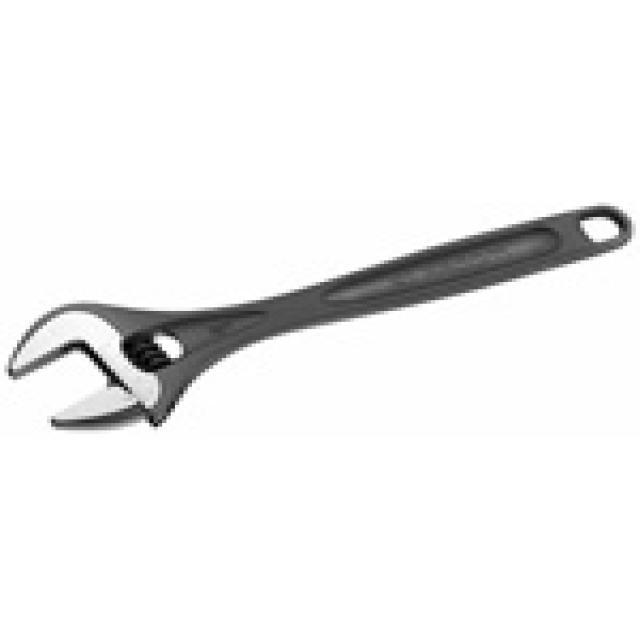wrench: (0, 193, 640, 444)
